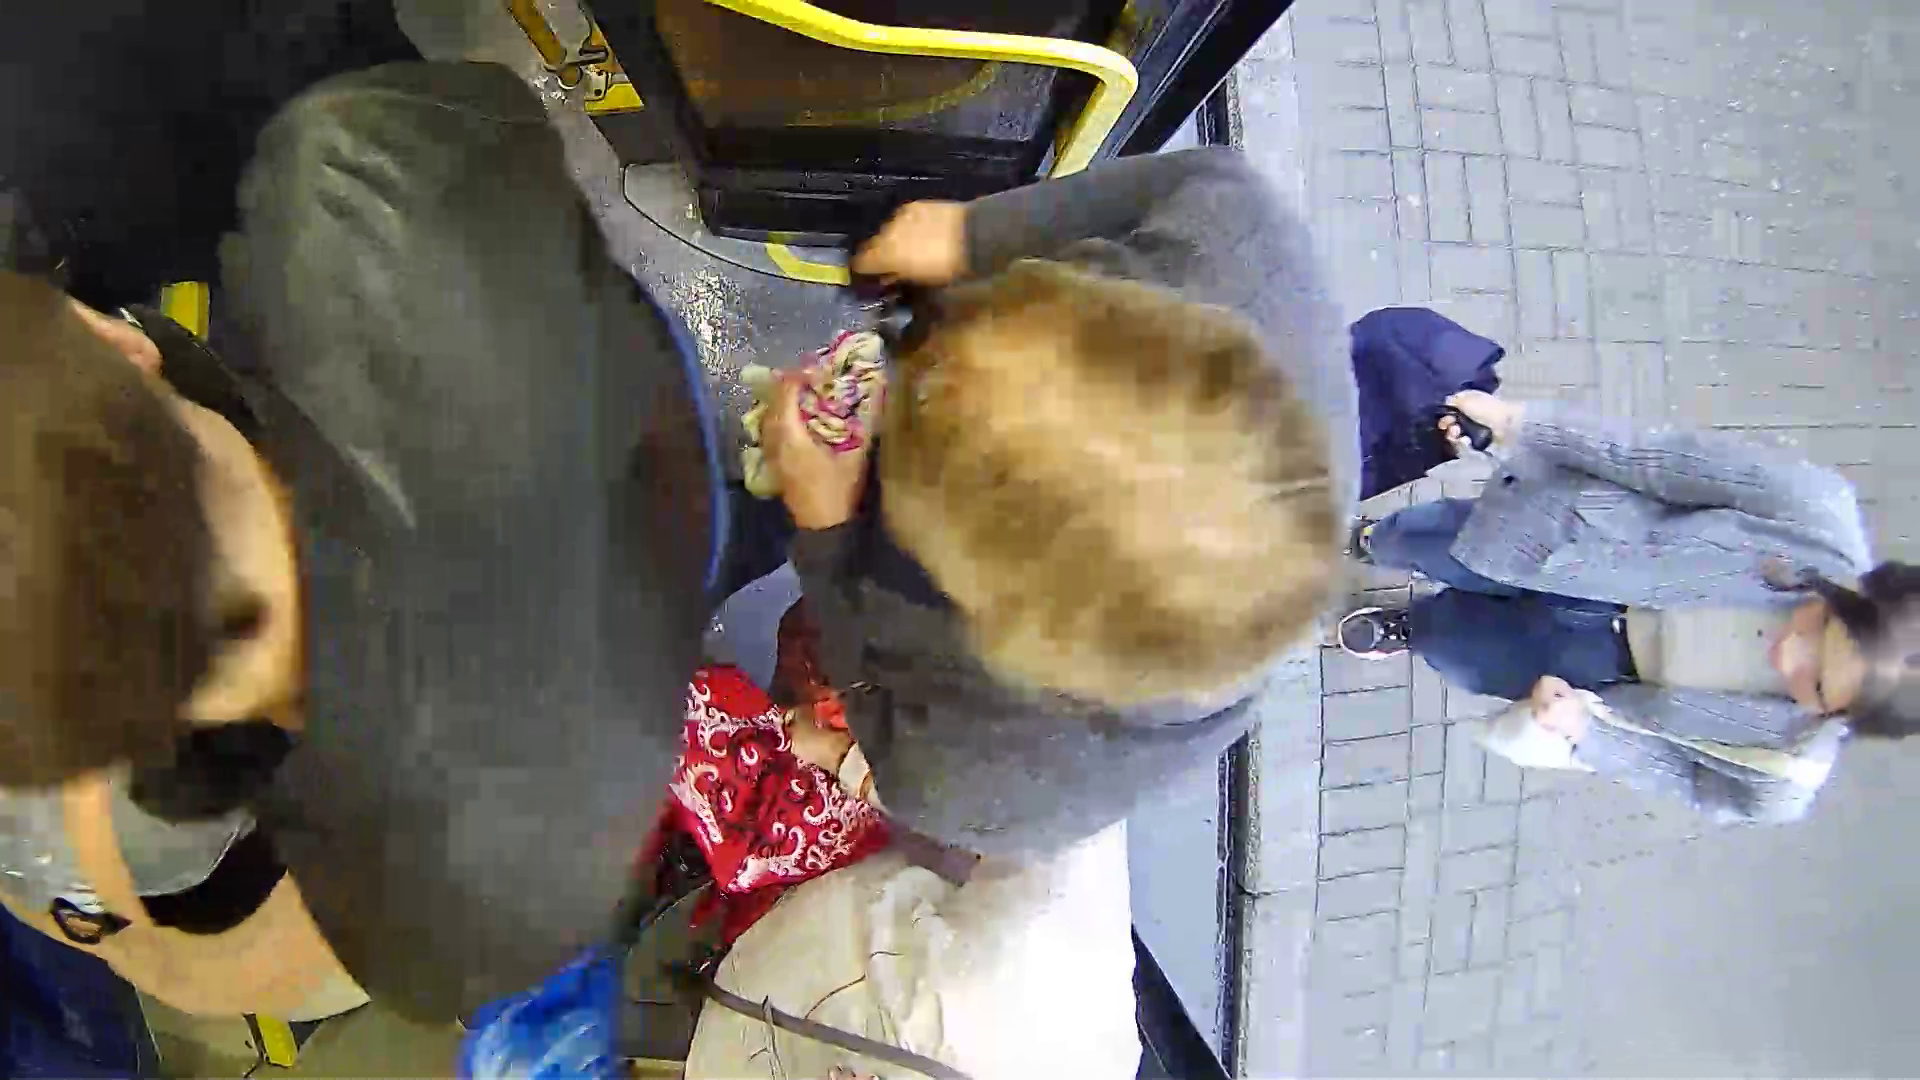person: (32, 81, 647, 972), (677, 145, 1366, 819), (1414, 260, 1916, 872)
